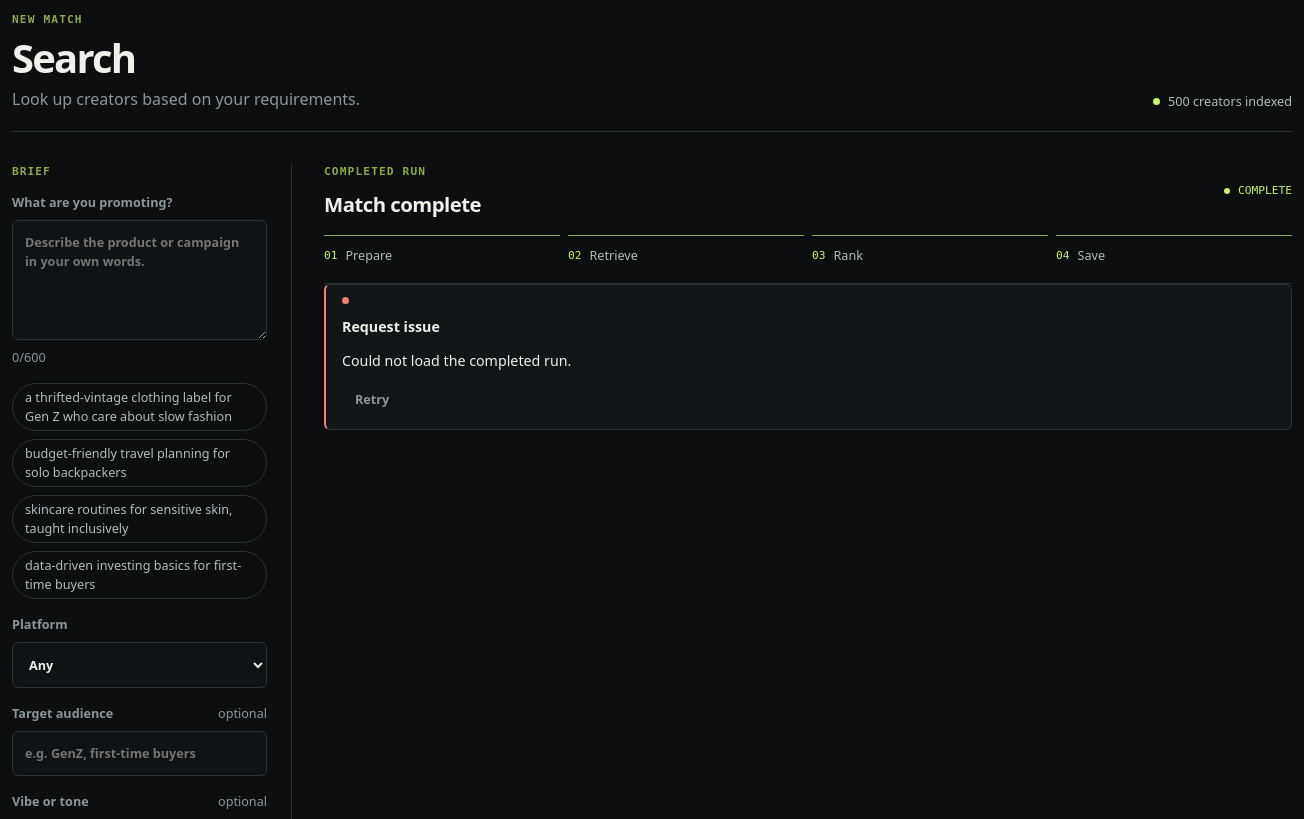
Test: SearchPage › offers a retry when the completed run cannot be loaded
The width and height of the screenshot is (1304, 819).
Expected: the text "Could not load the completed run." is shown, [342,351,571,370]
Click the button "Retry". click: (372, 400)
box: [342,383,402,417]
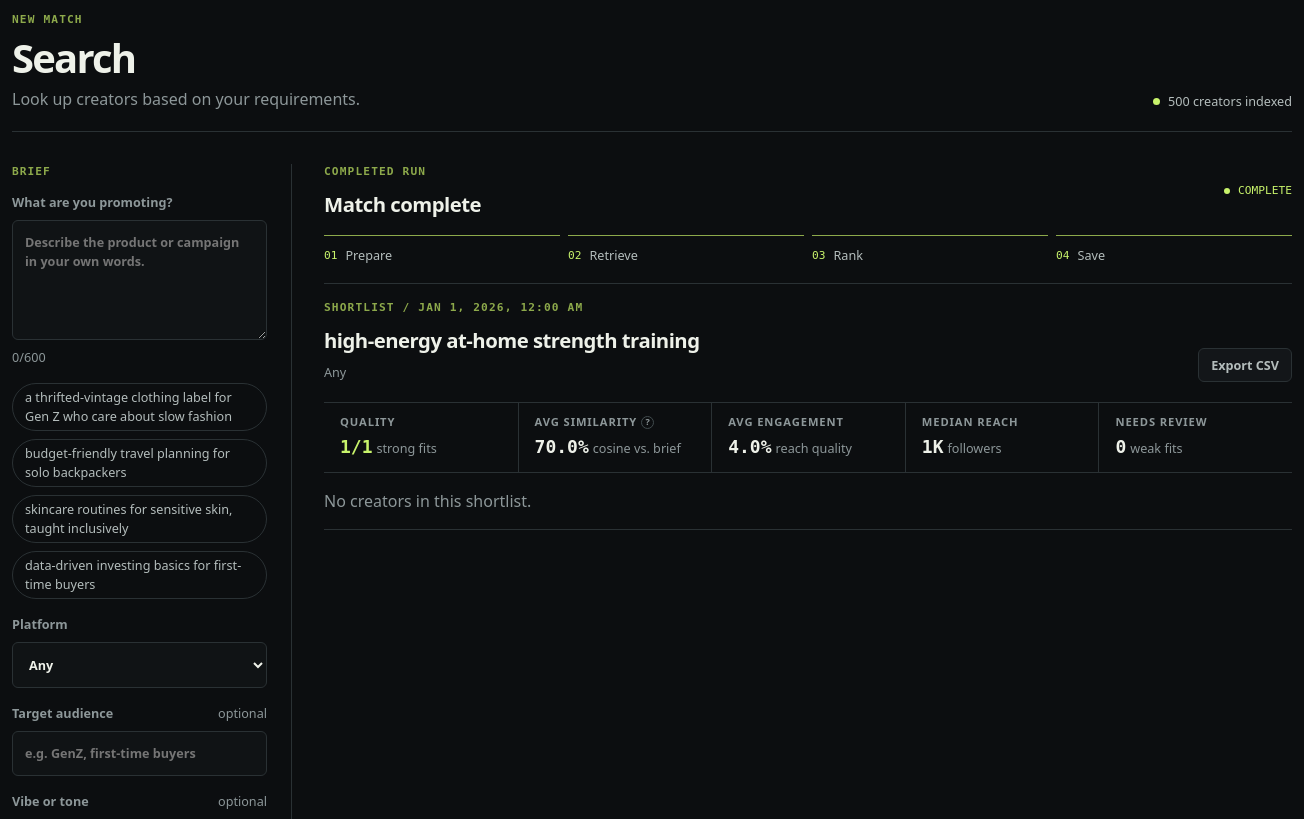
Expected: the heading "high-energy at-home strength training" is shown, [324,325,700,356]
